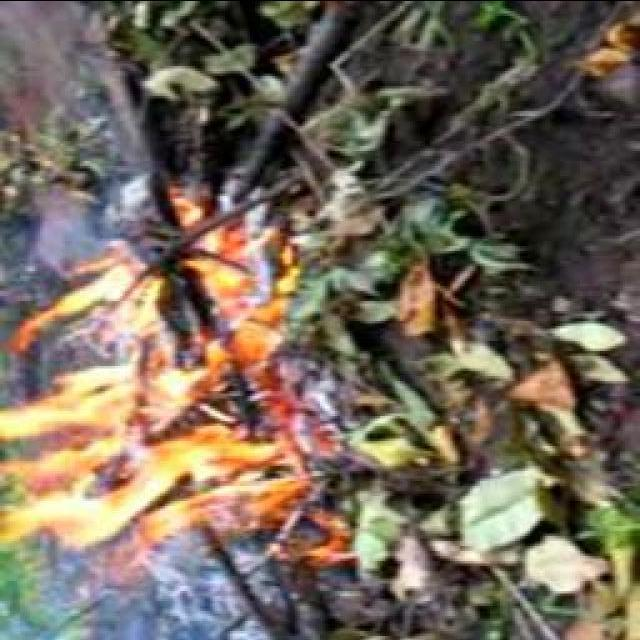Fire: (0, 233, 281, 559)
